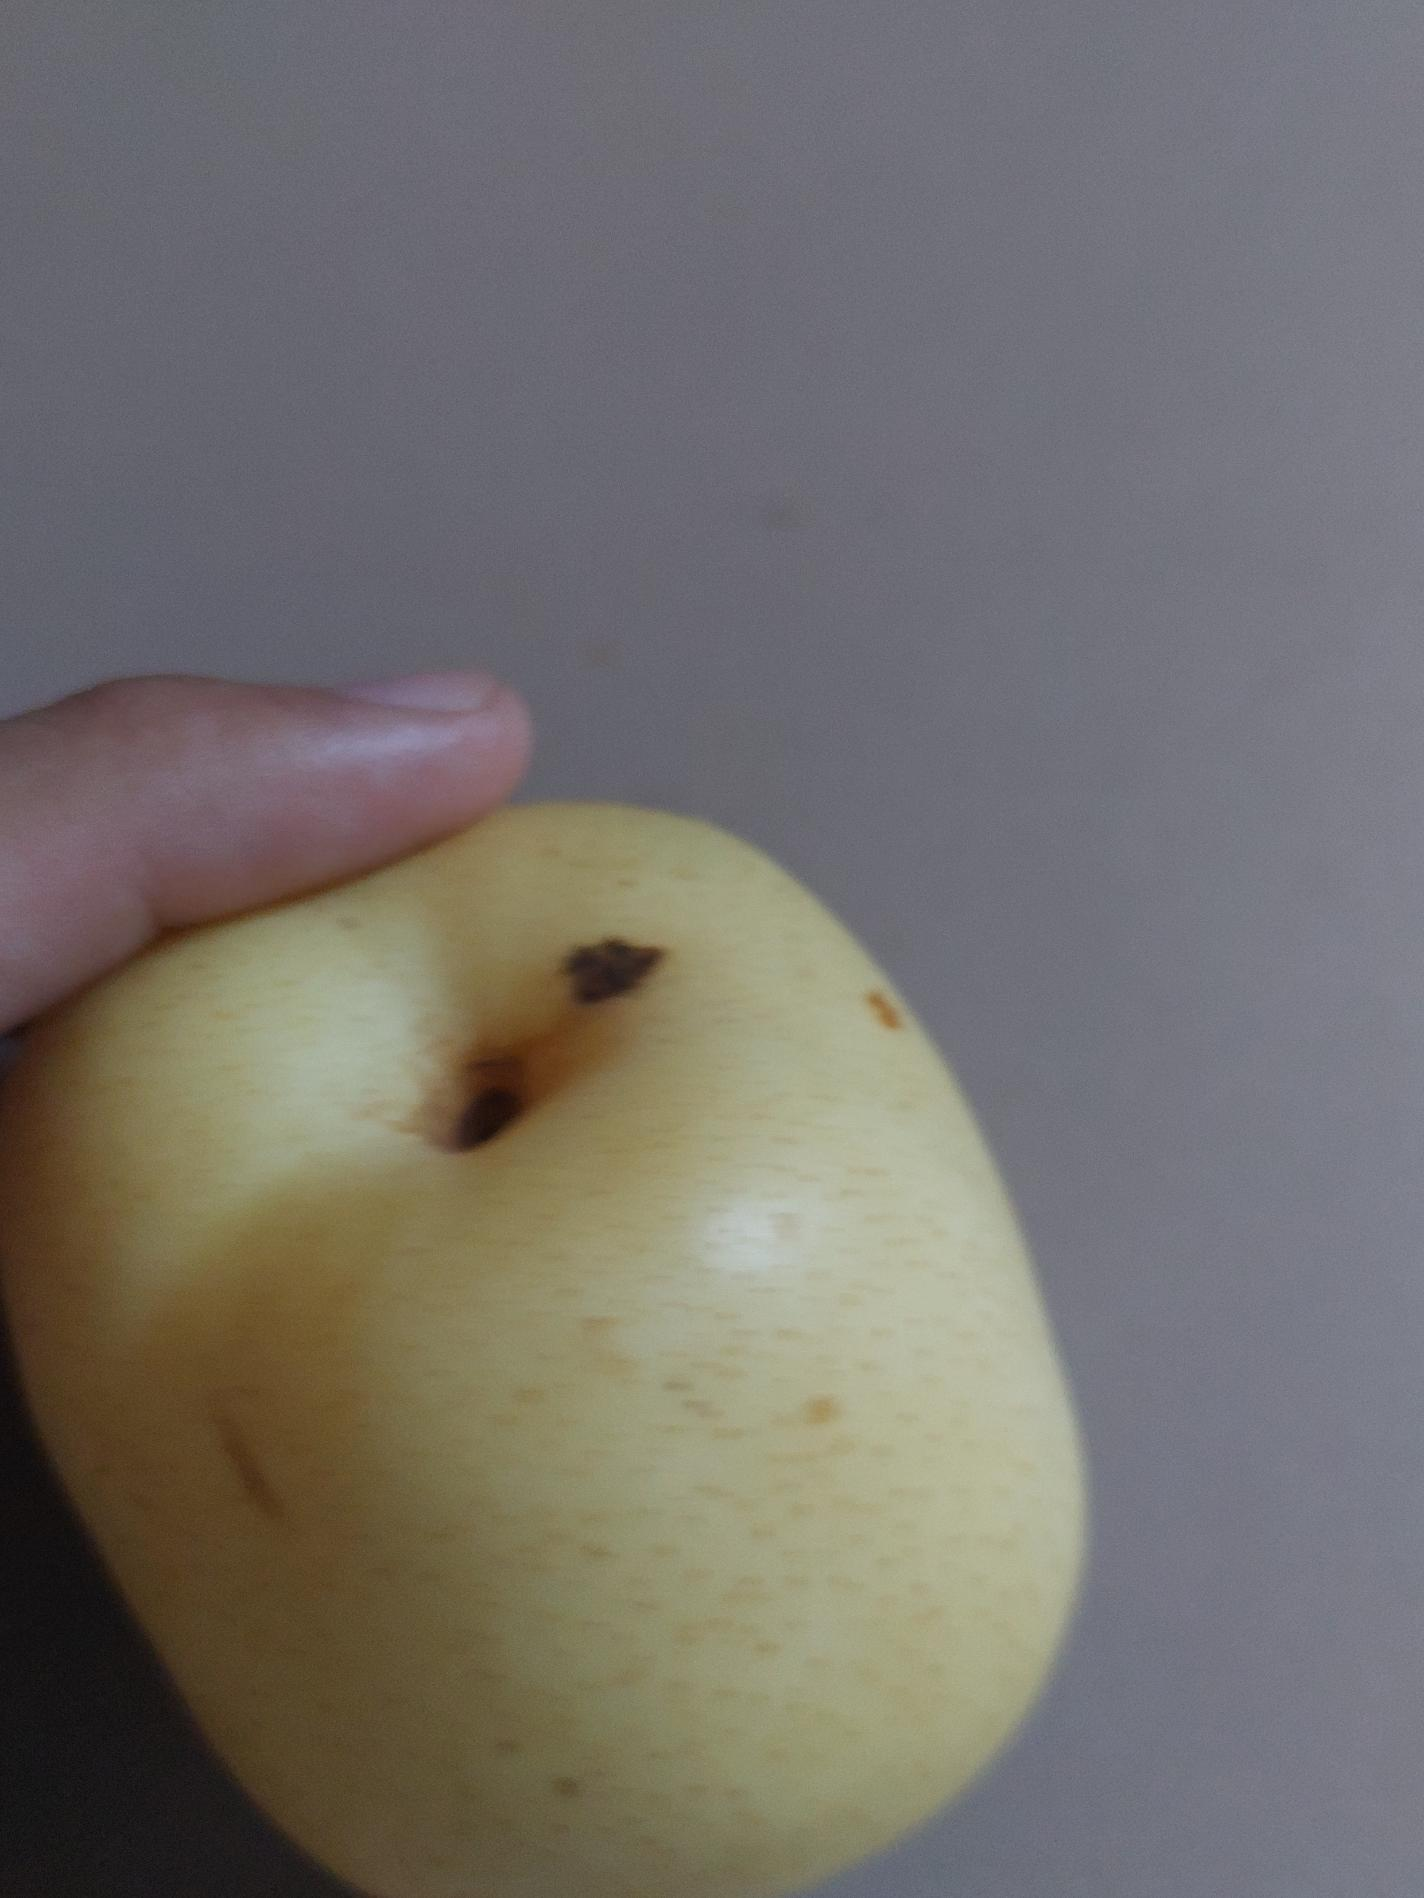Good Pear: (0, 784, 1114, 1898)
